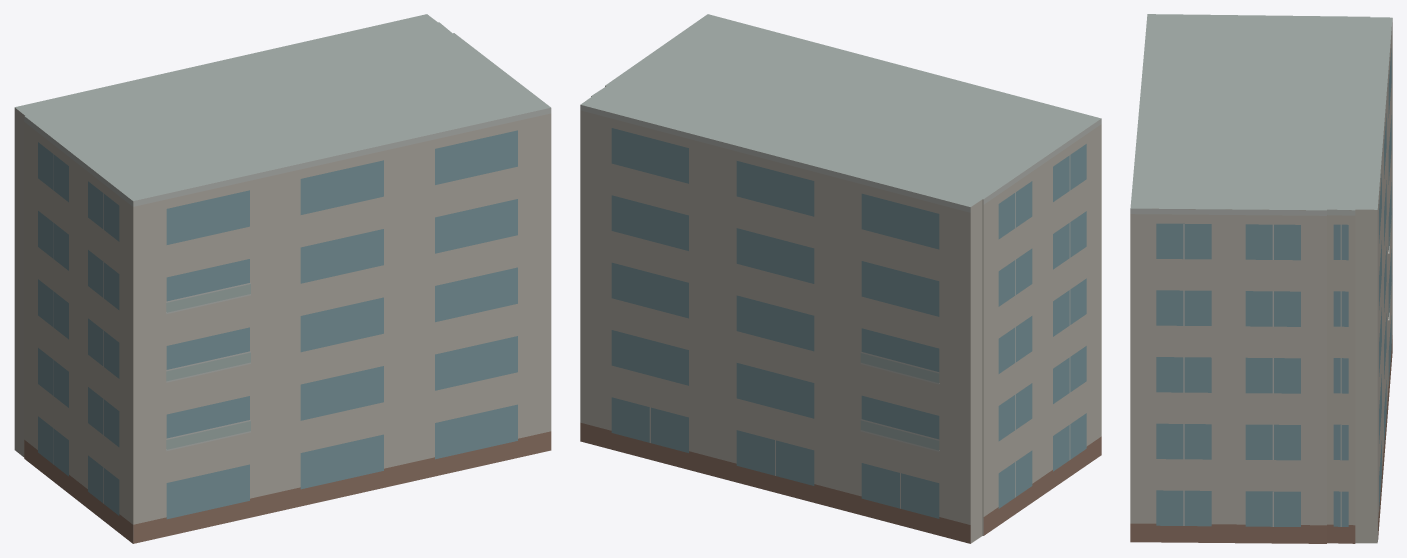
File: survey-upis-32679042.glb
3 views of the same model, side by side, from view 1: azimuth 30°, elevation 25°; view 2: azimuth 150°, elevation 25°; view 3: azimuth 270°, elevation 25° (orthographic). The views are drawn at different scales.
Visible parts, largest first — view 1: survey-upis-32679042.tmp; view 2: survey-upis-32679042.tmp; view 3: survey-upis-32679042.tmp.
Boxes of the visible parts, x1,y1,x2,y2 form: survey-upis-32679042.tmp: [14, 14, 551, 543]; survey-upis-32679042.tmp: [580, 14, 1101, 543]; survey-upis-32679042.tmp: [1130, 14, 1392, 543].
Bounding box in the file's own units: 18.44 × 14.6 × 10.41.
